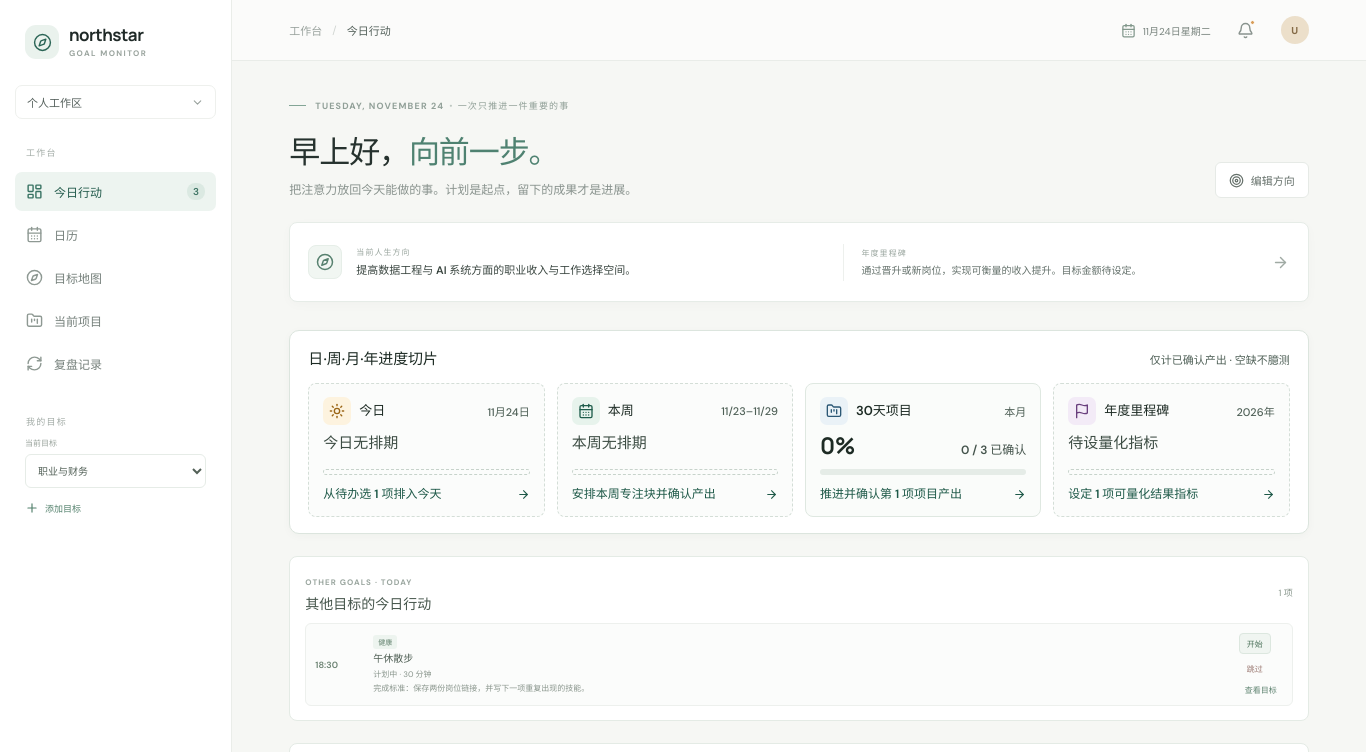
Goal Monitor first-run flows › updates the owning goal from the calendar and records explicit completion evidence
Click the button "日历": click(116, 234) [15,215,216,254]
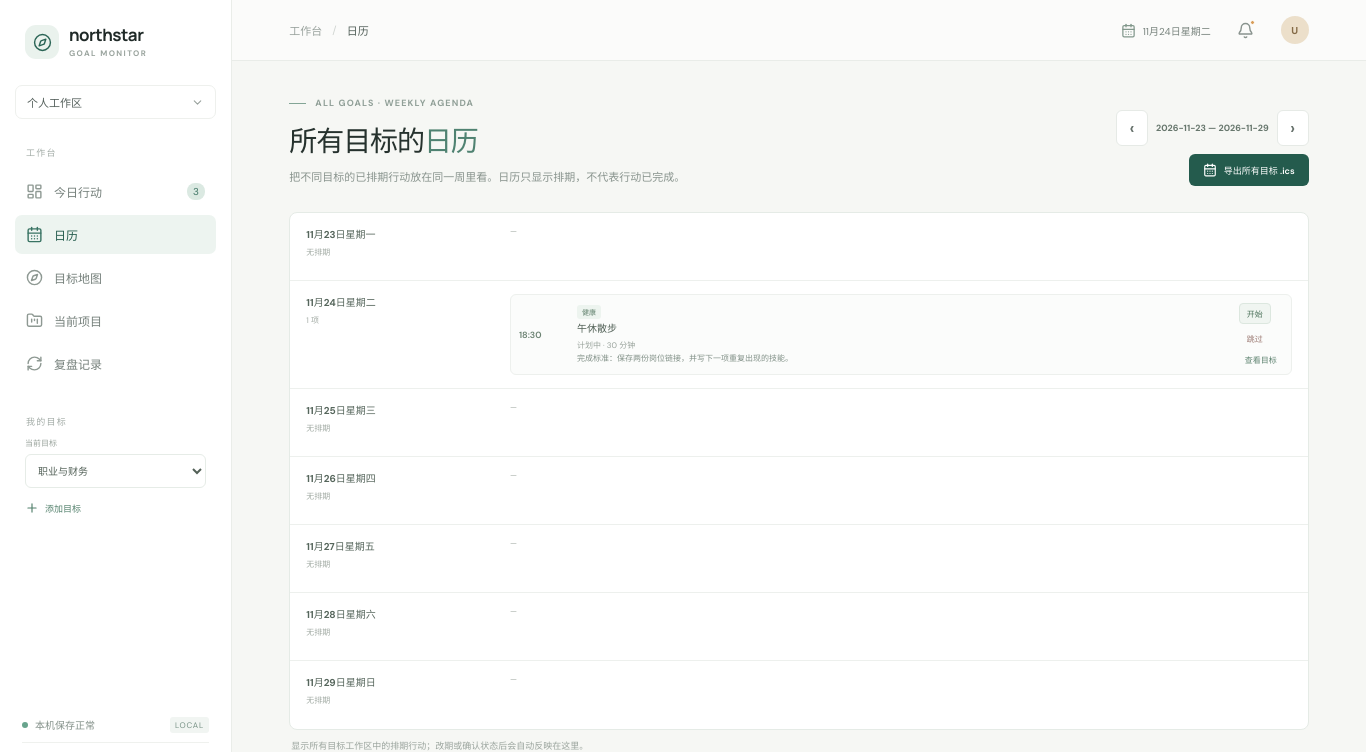
Click the button "开始": click(1255, 314) [1239,304,1271,324]
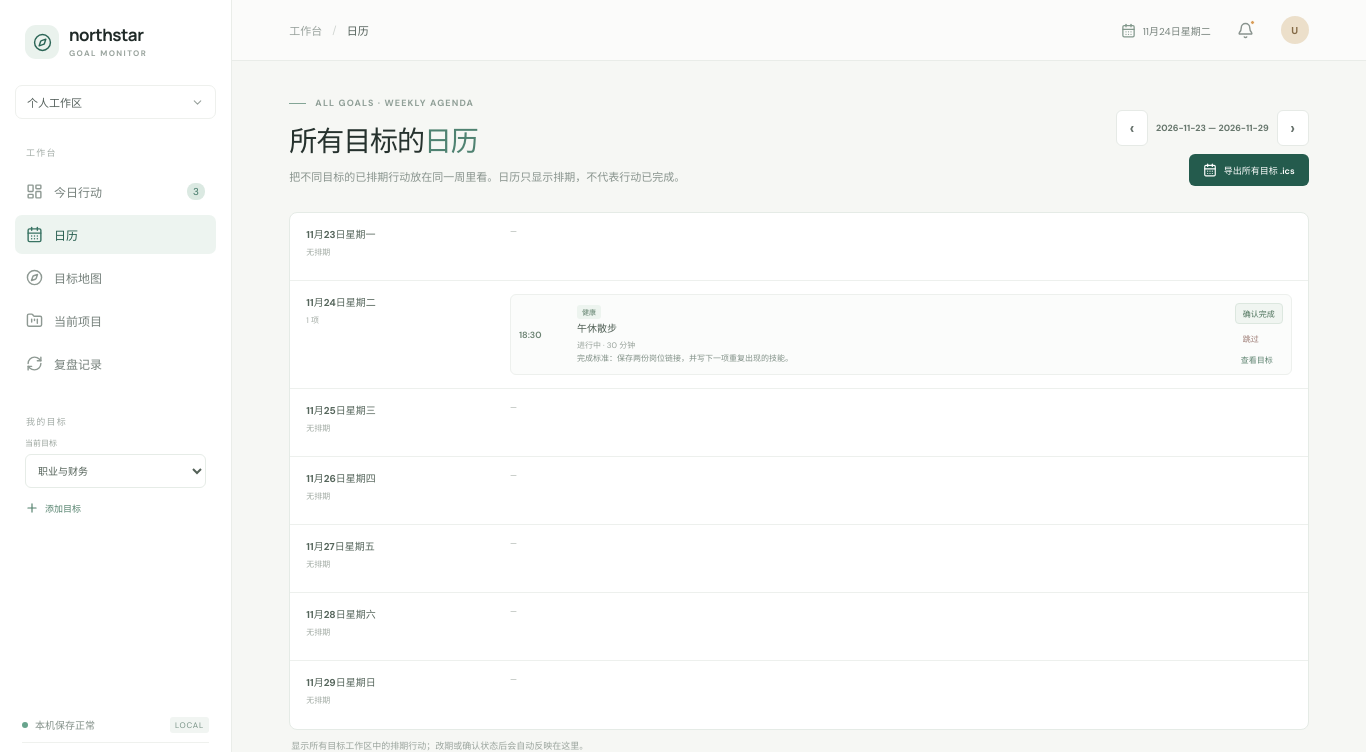
Now the text "进行中 · 30 分钟" is shown, box [577,340,635,350]
Click the button "确认完成": click(1259, 314) [1235,304,1283,324]
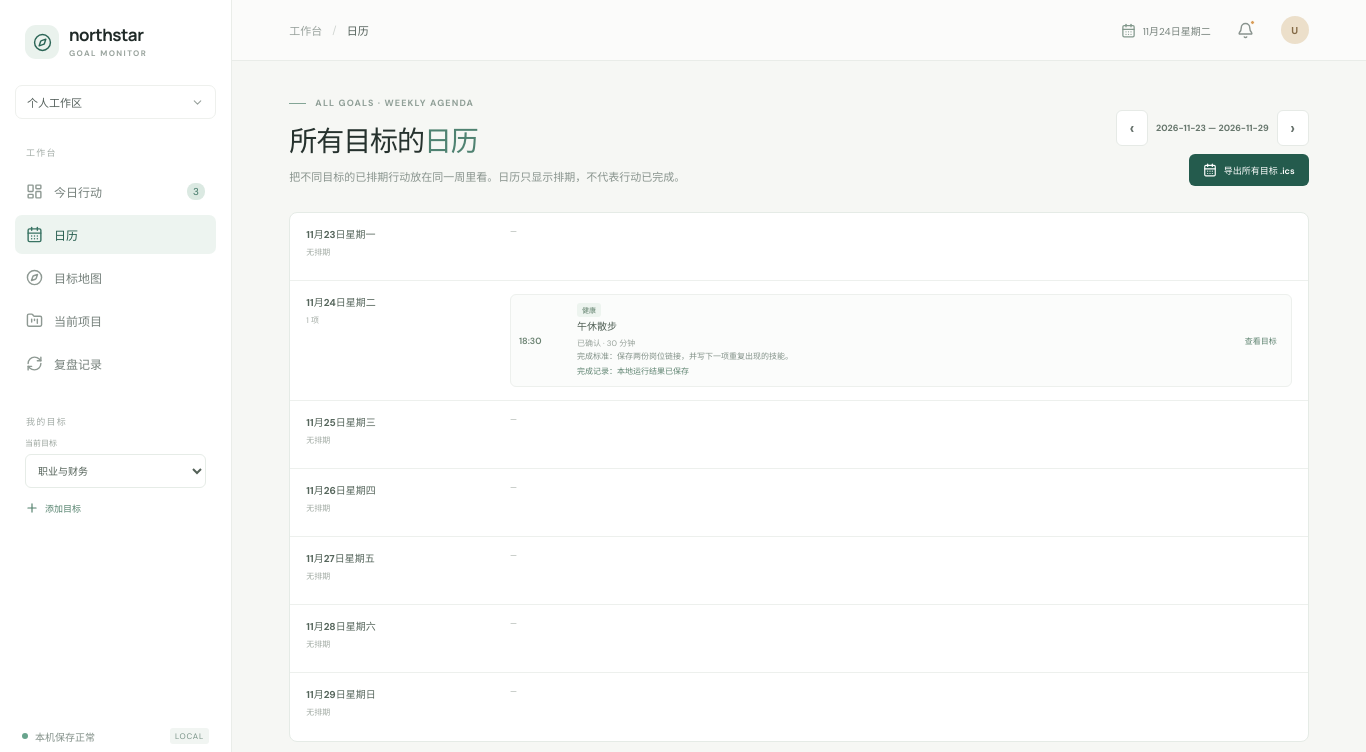
Now the text "已确认 · 30 分钟" is shown, box [577,338,635,348]
Now the text "完成记录：本地运行结果已保存" is shown, box [577,366,689,376]
